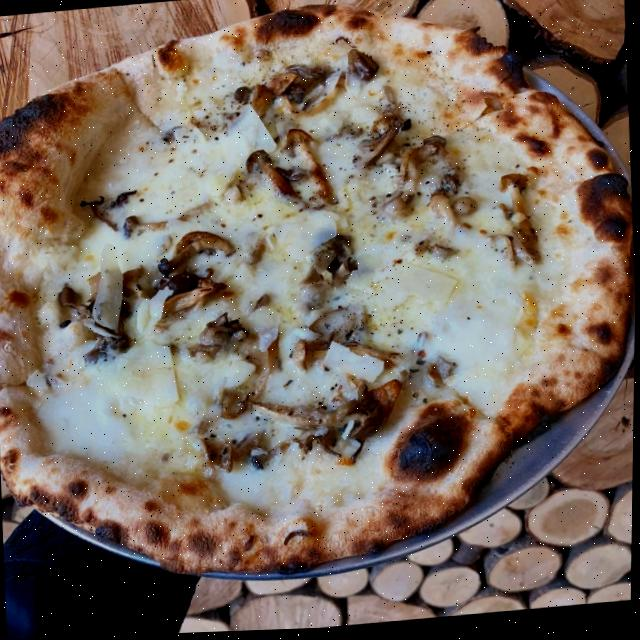mushrooms: (241, 393, 388, 449), (291, 333, 398, 381), (284, 129, 336, 208), (158, 231, 238, 274), (247, 150, 294, 204), (157, 280, 217, 318), (356, 126, 405, 169), (120, 212, 173, 240), (500, 175, 530, 221), (58, 286, 95, 323), (346, 50, 381, 85), (430, 197, 459, 230), (249, 84, 274, 114), (270, 73, 296, 99)
pizza: (0, 0, 640, 599)
